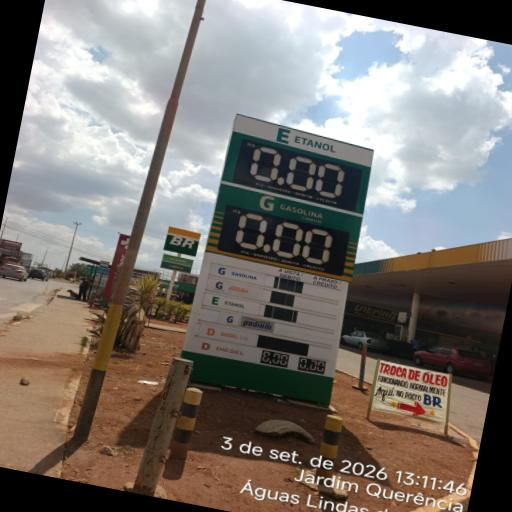placa: (181, 114, 374, 405)
